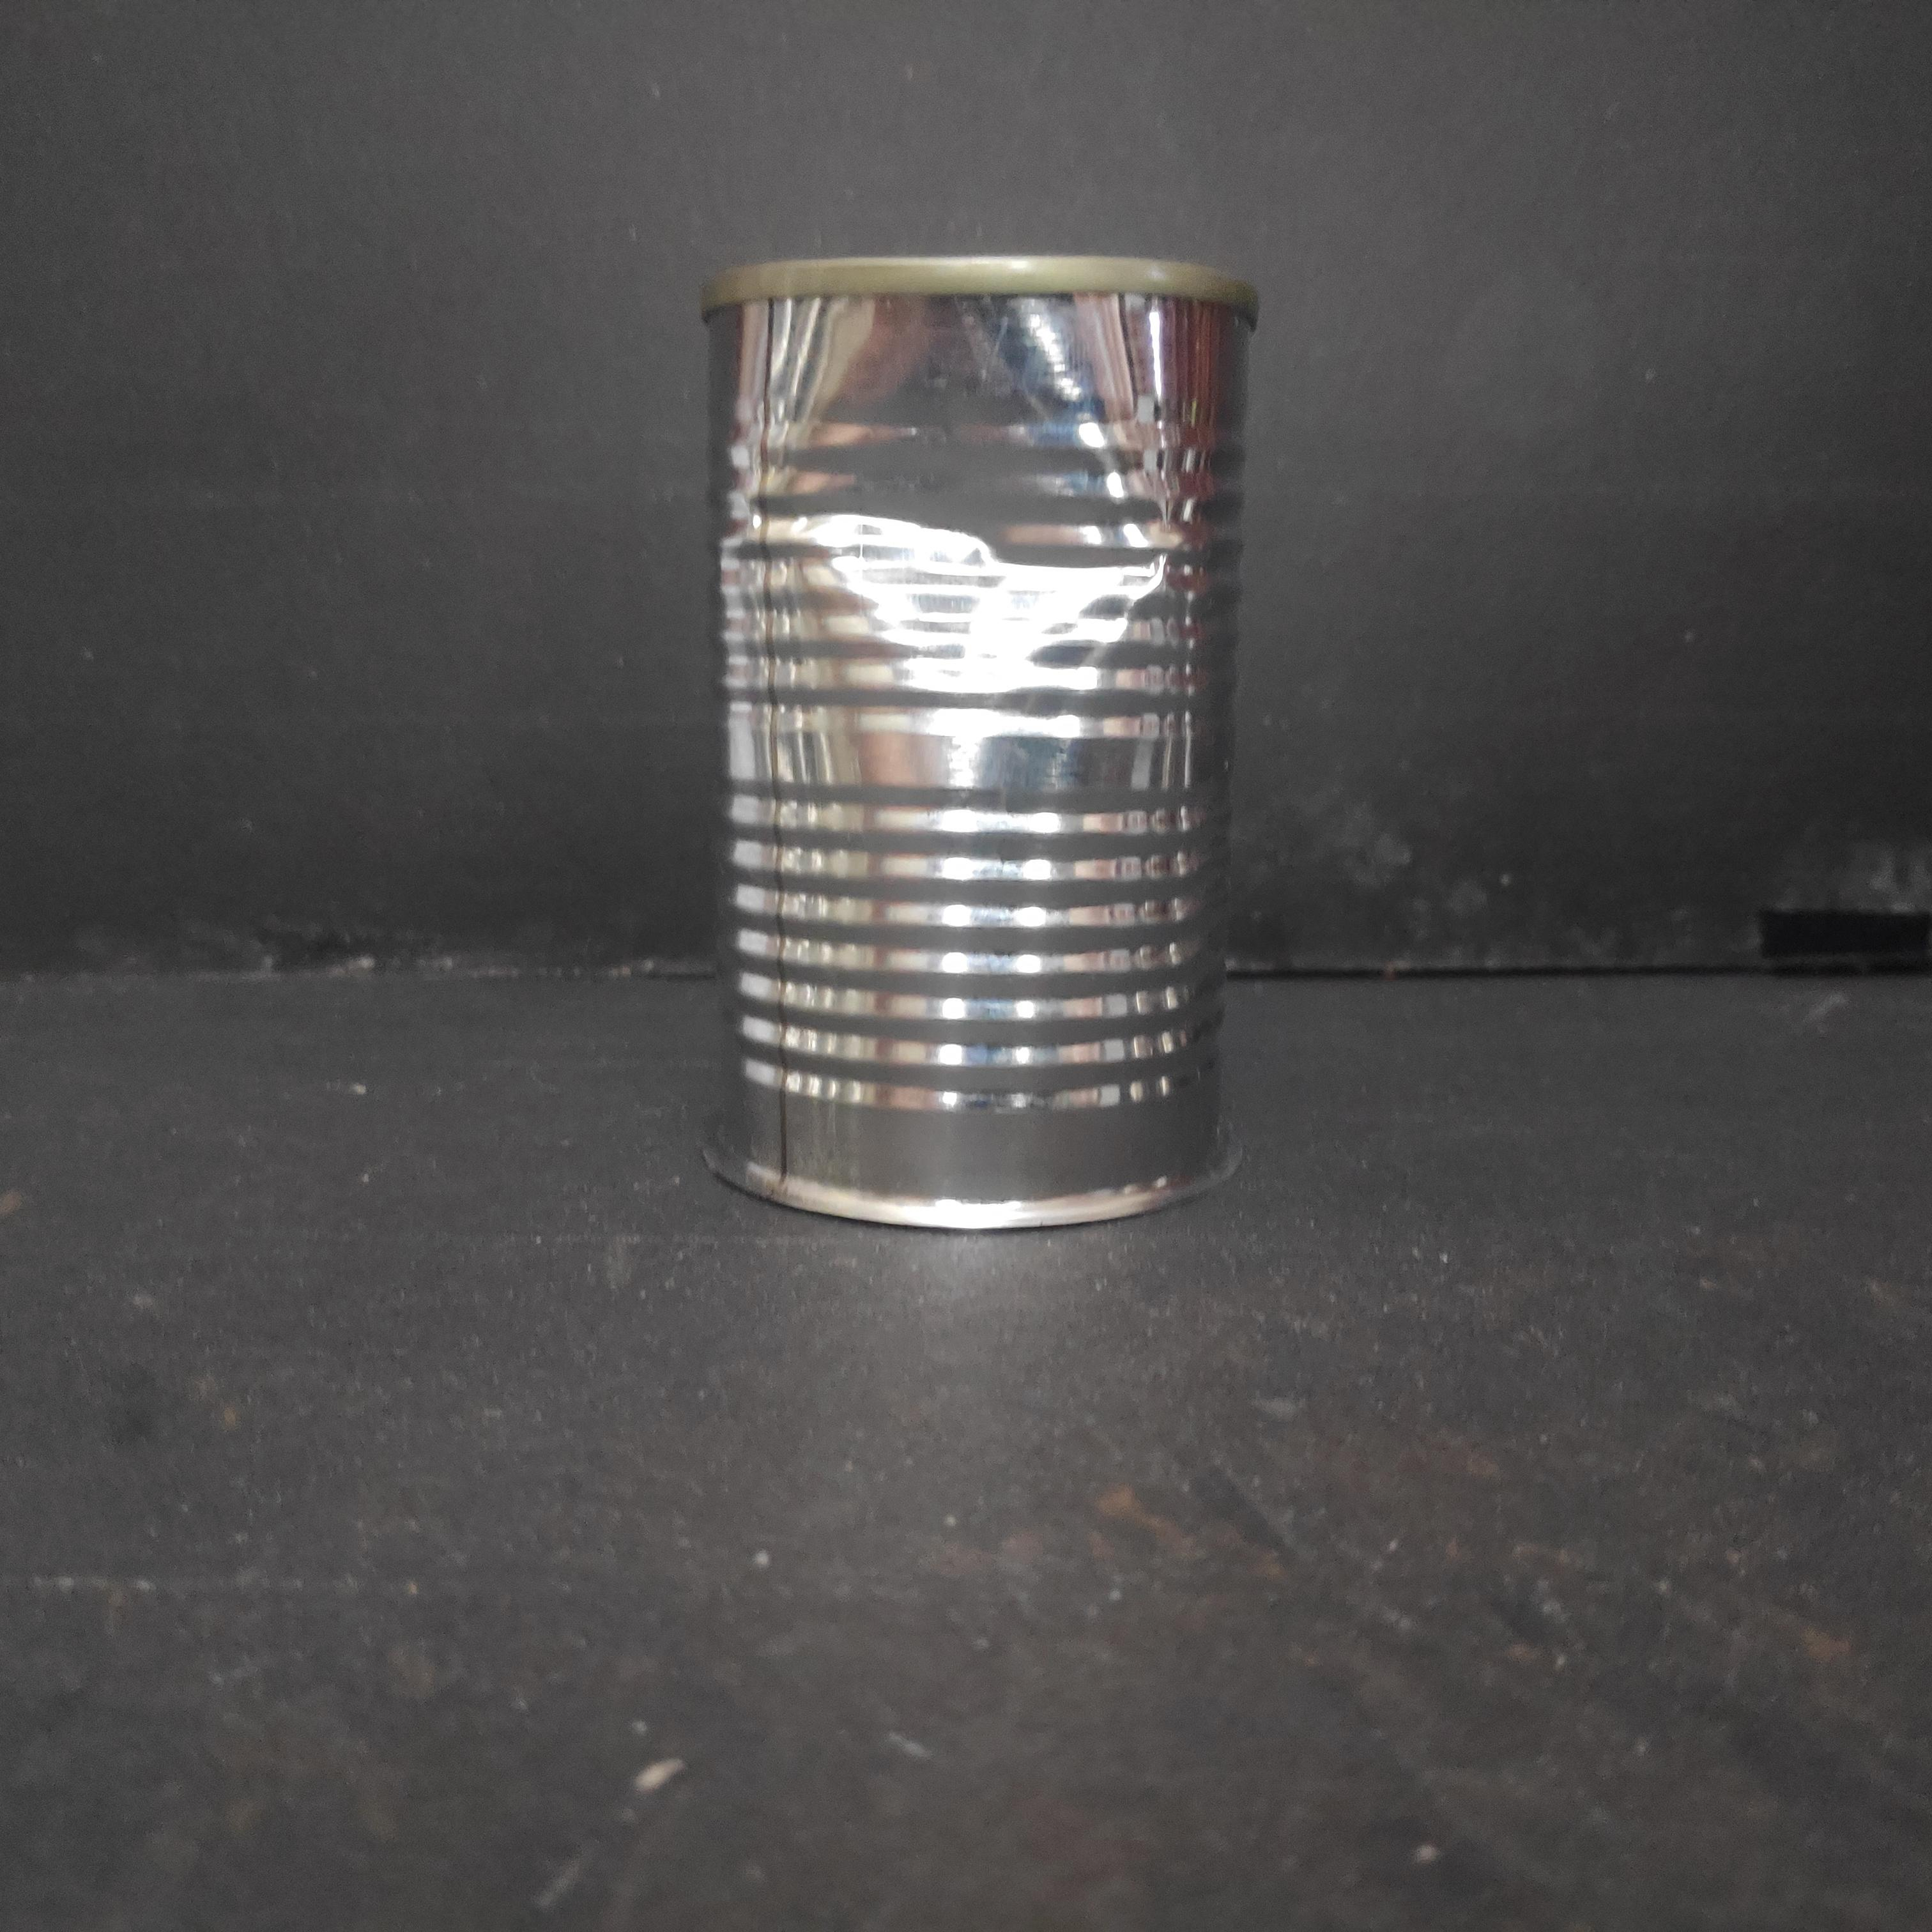Minor Defect: (692, 253, 1270, 1240)
